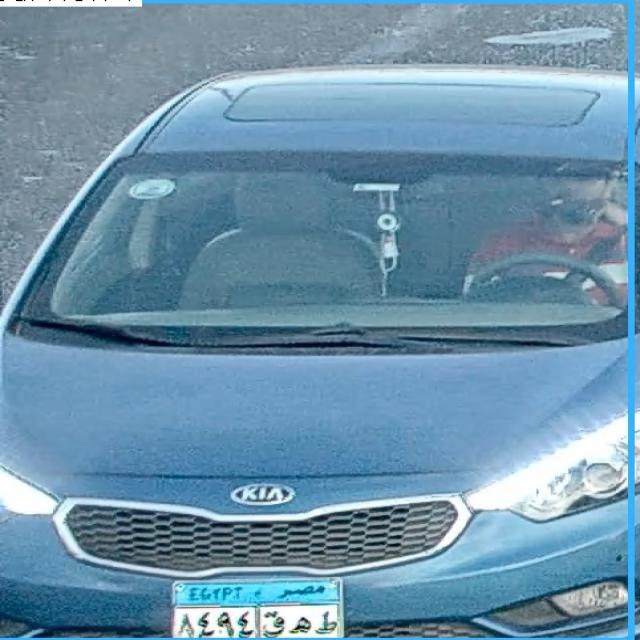windshield: (14, 162, 634, 340)
